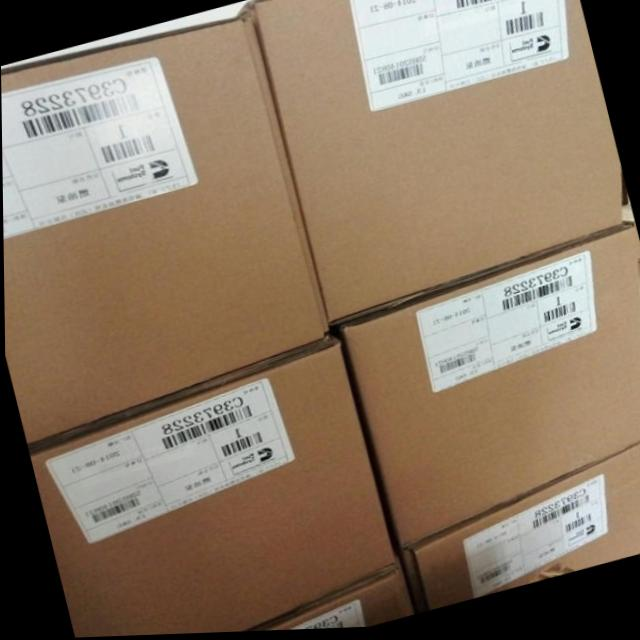box: (1, 16, 327, 444), (237, 0, 622, 324), (29, 337, 395, 638), (338, 225, 640, 552), (399, 446, 640, 615), (241, 566, 413, 633)
